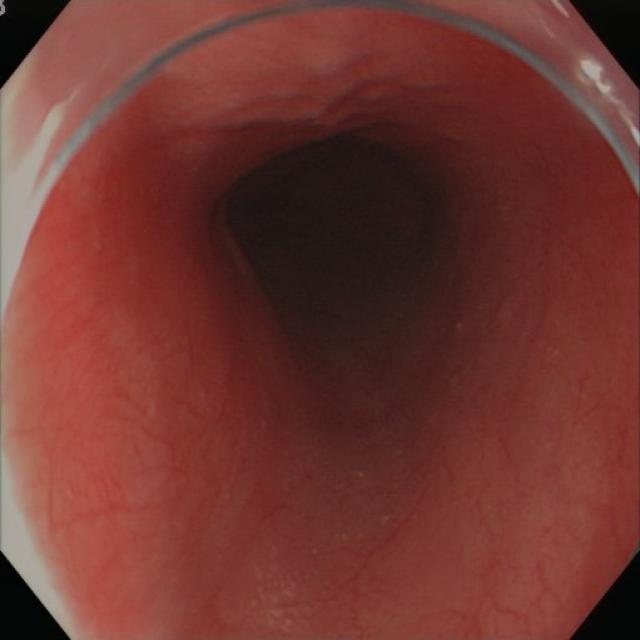E: (214, 109, 478, 417)
J: (248, 551, 314, 638)
U: (3, 84, 93, 326), (3, 445, 78, 636), (578, 53, 640, 145)
